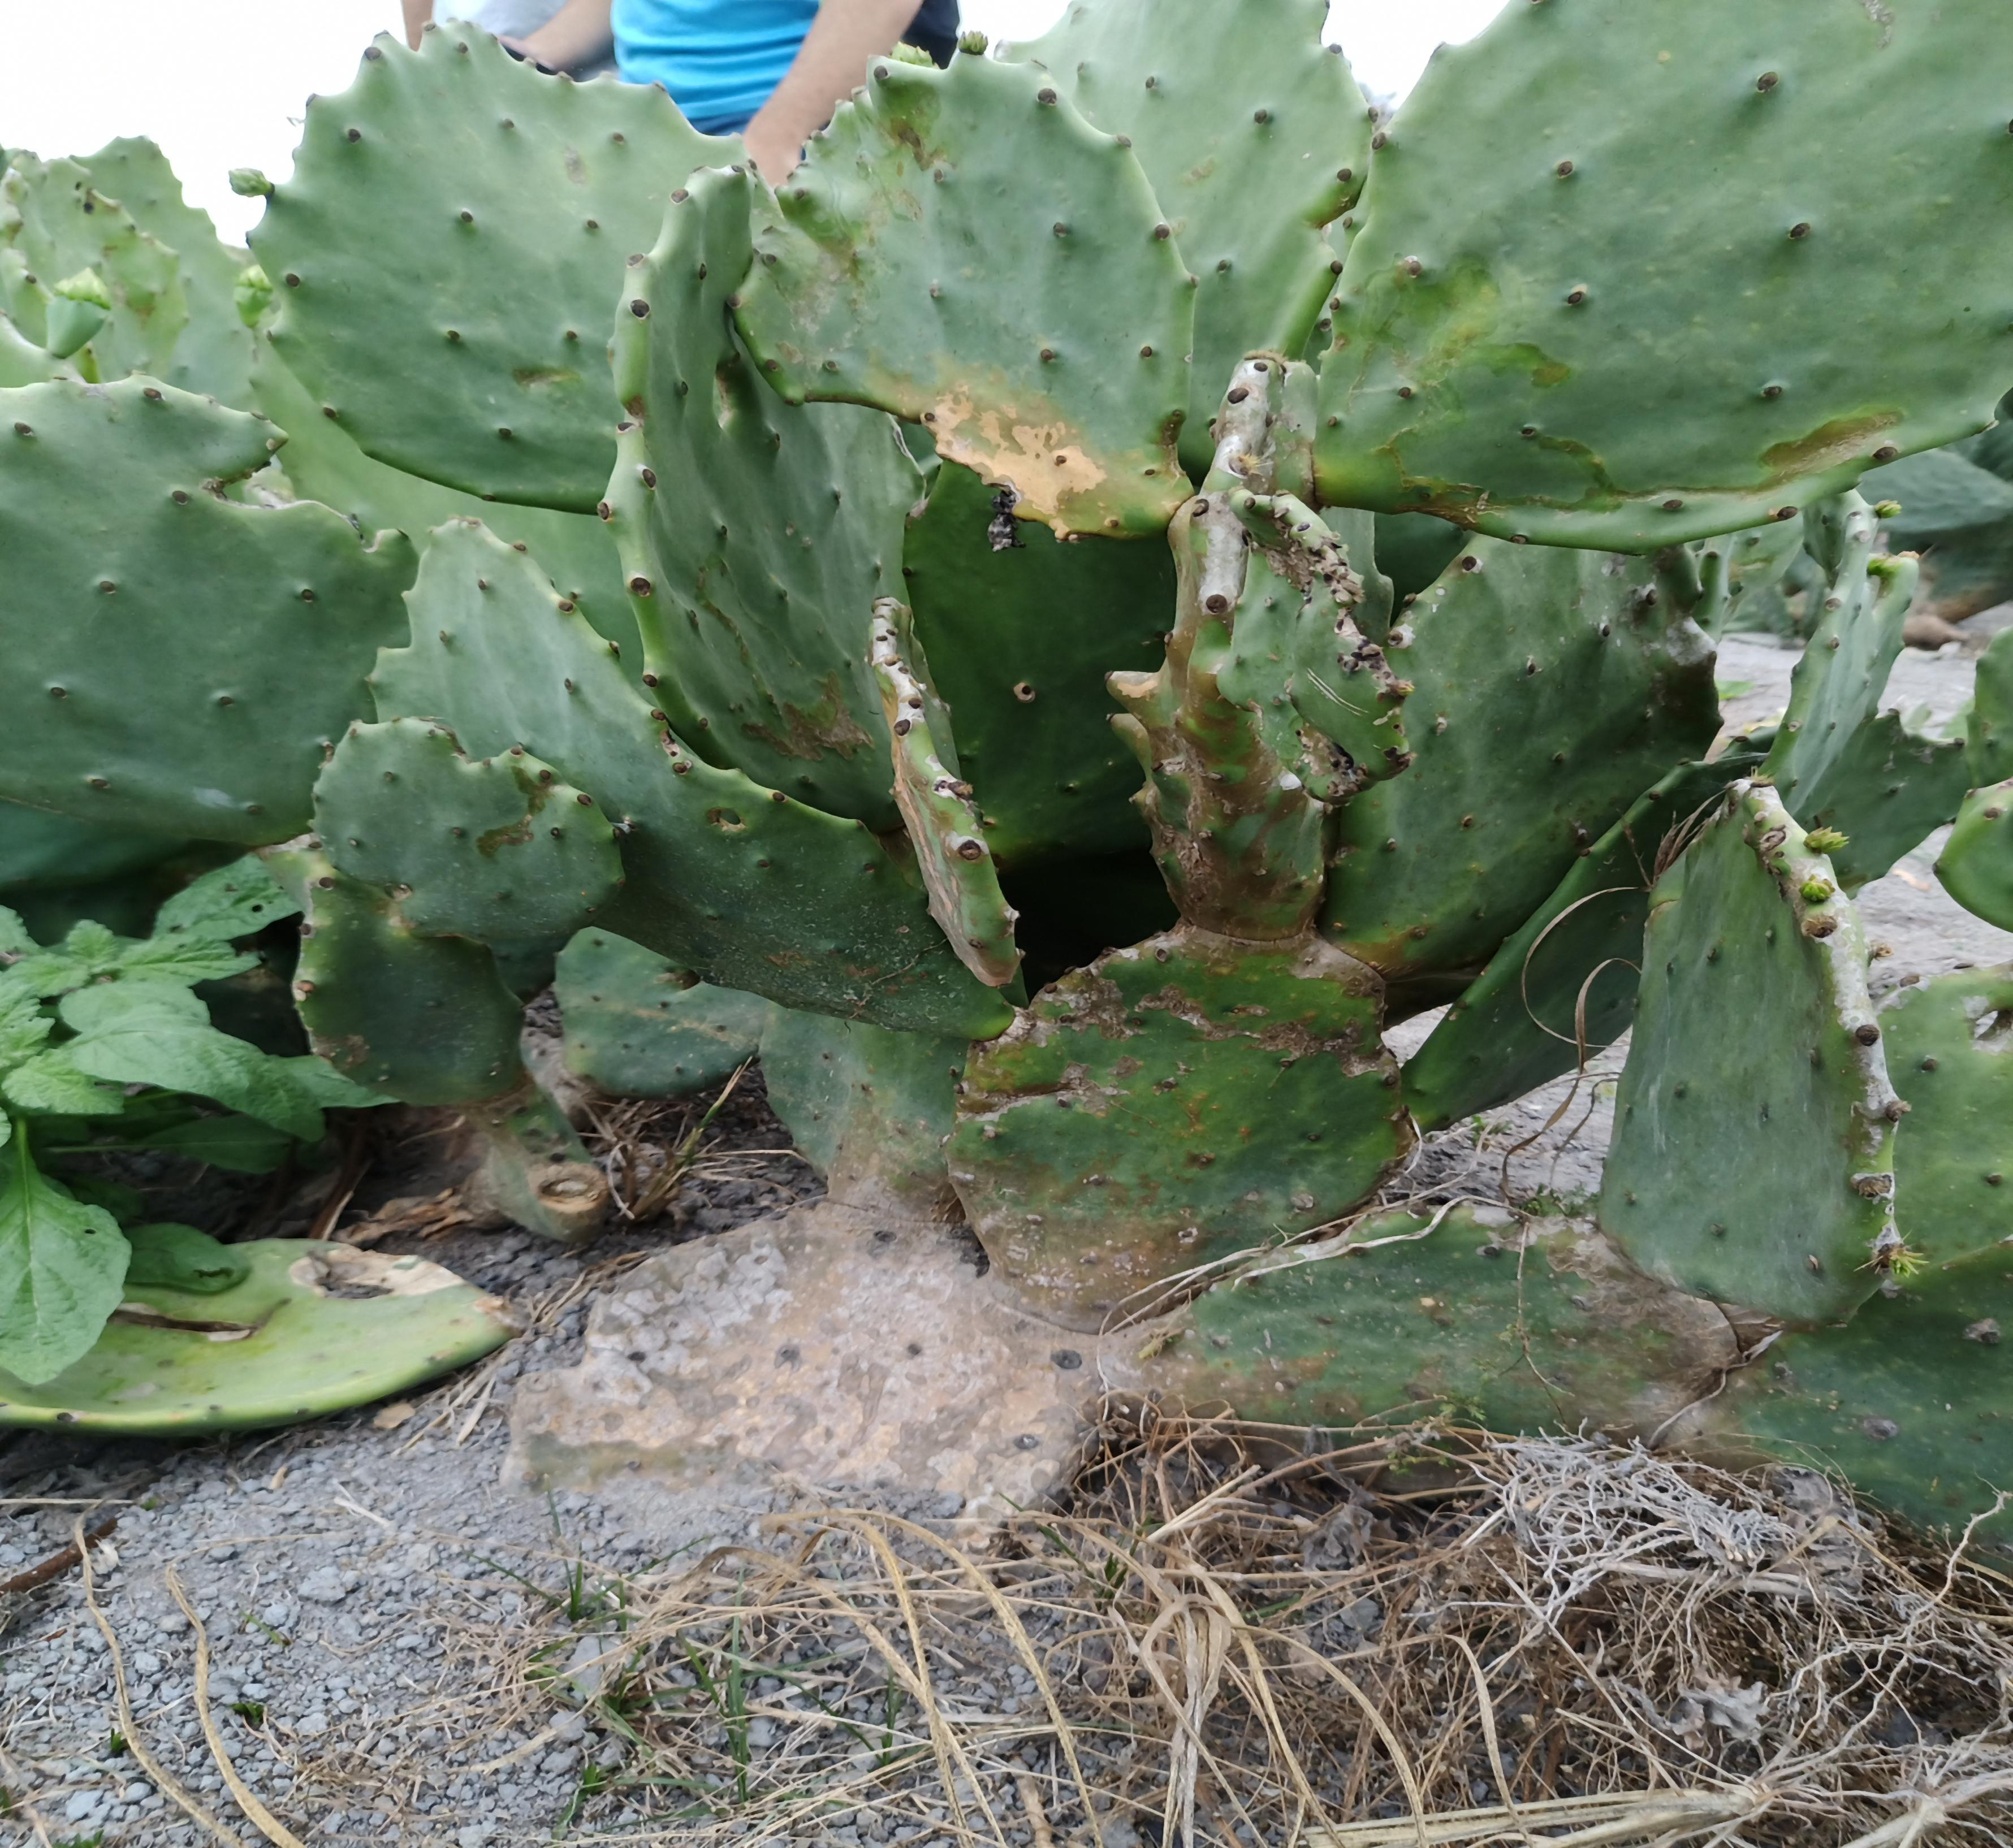impropria: (785, 66, 1213, 548), (1346, 544, 1722, 978), (999, 9, 1411, 252), (325, 712, 607, 972)
propria: (1324, 3, 2013, 554), (270, 44, 735, 524), (1, 379, 385, 879), (1617, 811, 1924, 1362)
